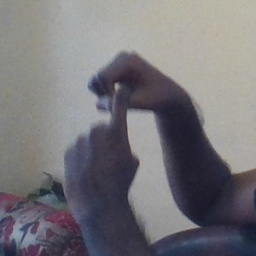Q: (56, 47, 167, 185)
